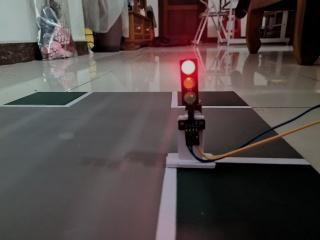red: (174, 54, 203, 116)
